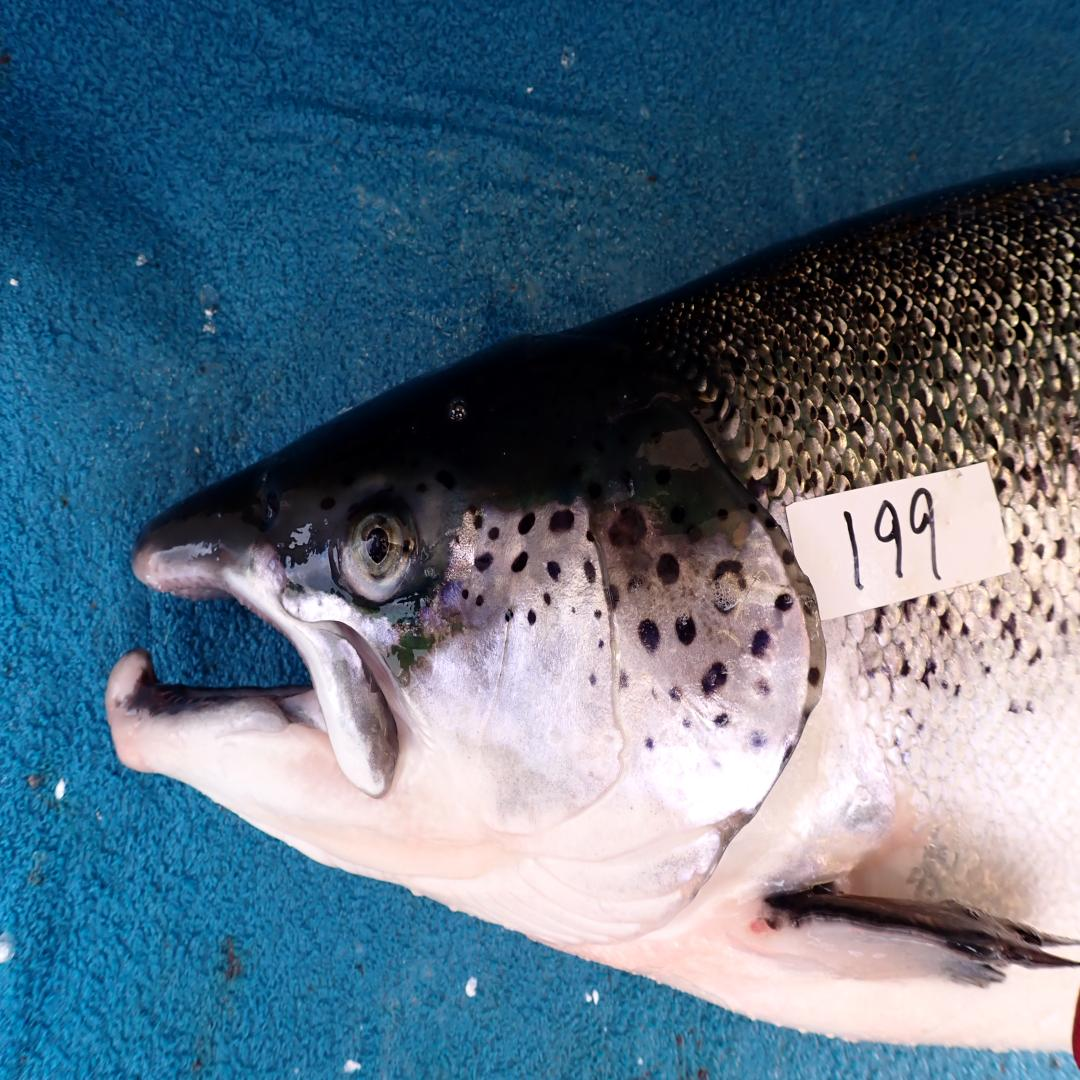roi: (399, 500, 819, 960)
